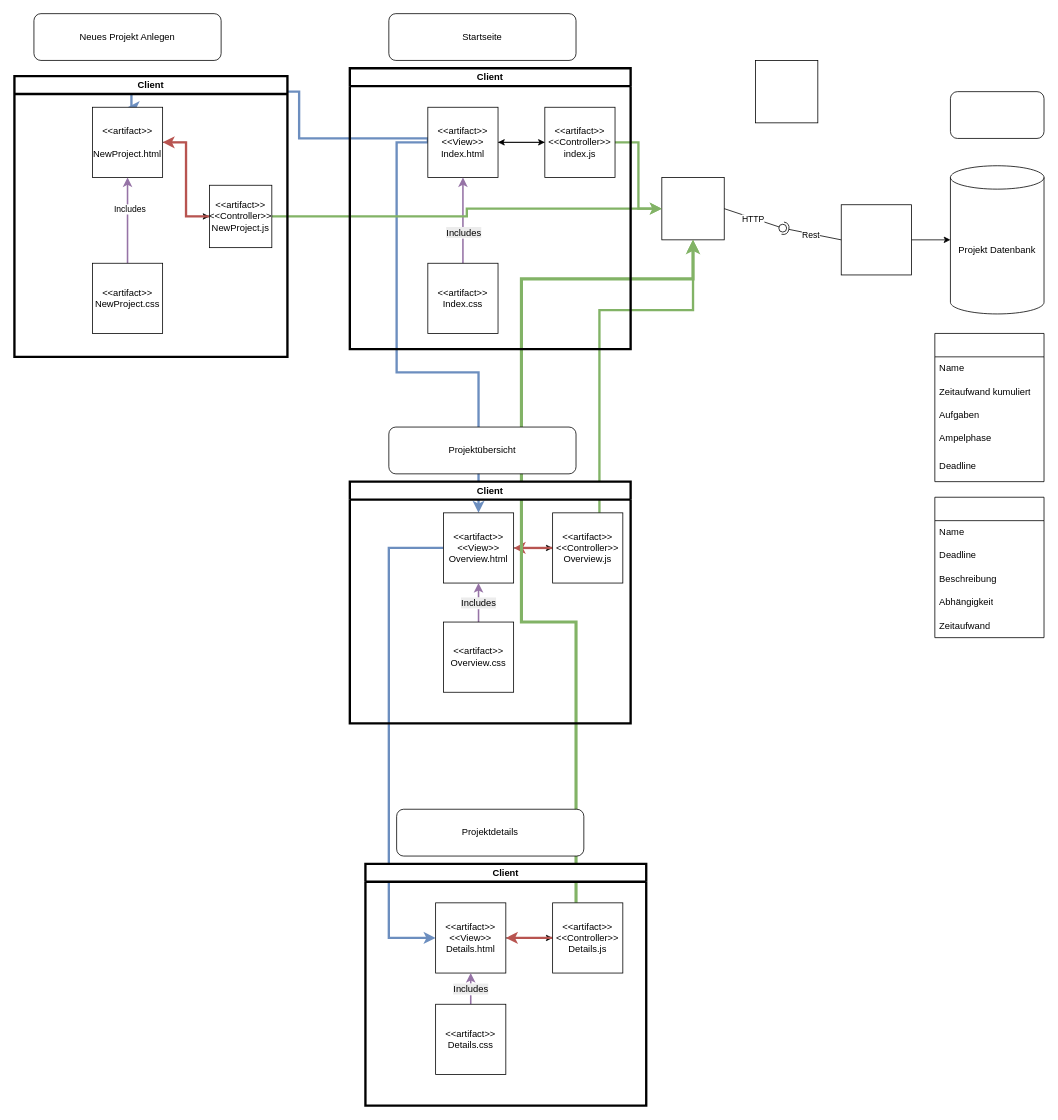
This 1058x1120 diagram has some shape labels left out. The shapes that lost their labels are listed below. From the top down, each one's box as (x1, y1, x2, y2) in pixels, then its label:
(755, 60, 818, 123): <<artifact>> <<REST>> Projekt REST API
(950, 91, 1044, 138): Server
(661, 177, 724, 240): <<artifact>> <<Modell>> Datenbank zugriffe.js
(840, 204, 911, 275): <<artifact>> <<Controller>> Datenbank API (Java)
(934, 333, 1044, 482): <<Modell>> Projekt.java
(934, 496, 1044, 638): <<Modell>> Aufgabe.java
